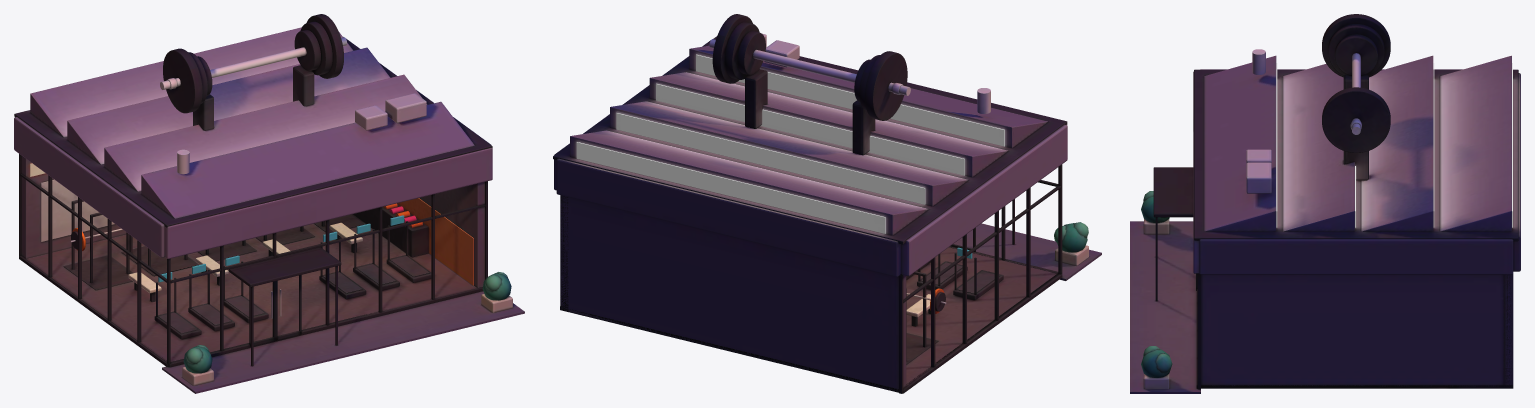
File: gym.glb
3 views of the same model, side by side, from view 1: azimuth 30°, elevation 25°; view 2: azimuth 150°, elevation 25°; view 3: azimuth 270°, elevation 25° (orthographic). The views are drawn at different scales.
Parts seen in each view (by area): view 1: gym; view 2: gym; view 3: gym.
Part boxes in pixels (x1,y1,x2,y2): gym: [14, 14, 524, 393]; gym: [553, 14, 1101, 393]; gym: [1130, 14, 1520, 393].
Bounding box in the file's own units: 5.42 × 3.78 × 5.22.
Materials: 1 (1 with a texture image).
